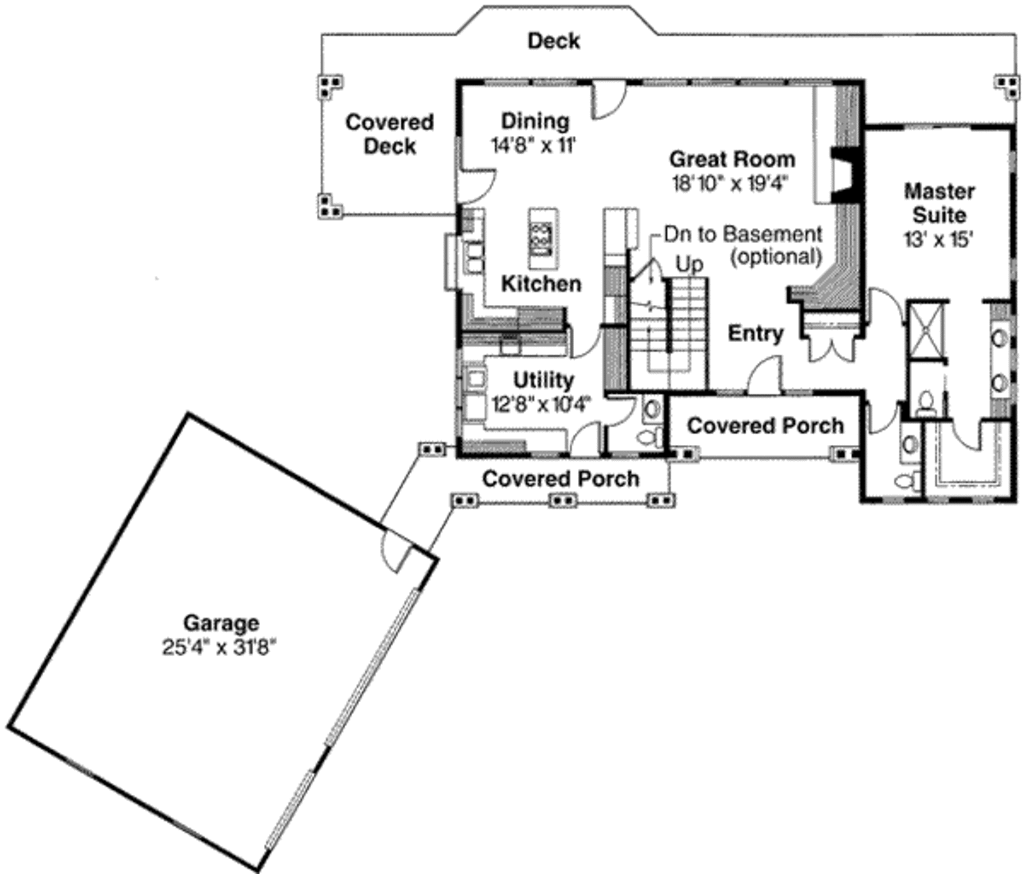door: (587, 75, 633, 132), (376, 525, 418, 586), (803, 321, 863, 361), (939, 412, 985, 456), (743, 357, 793, 397), (454, 157, 494, 203), (865, 284, 906, 328), (570, 417, 608, 459), (864, 399, 901, 440), (629, 252, 672, 286), (566, 325, 603, 363), (603, 389, 638, 428)
kitchen_bar: (514, 199, 565, 278)
large_sink: (905, 384, 948, 418), (891, 467, 931, 494)
small_sink: (984, 317, 1013, 397), (902, 423, 929, 464)
stairs: (635, 277, 712, 389)
twin_sink: (458, 241, 494, 283)
